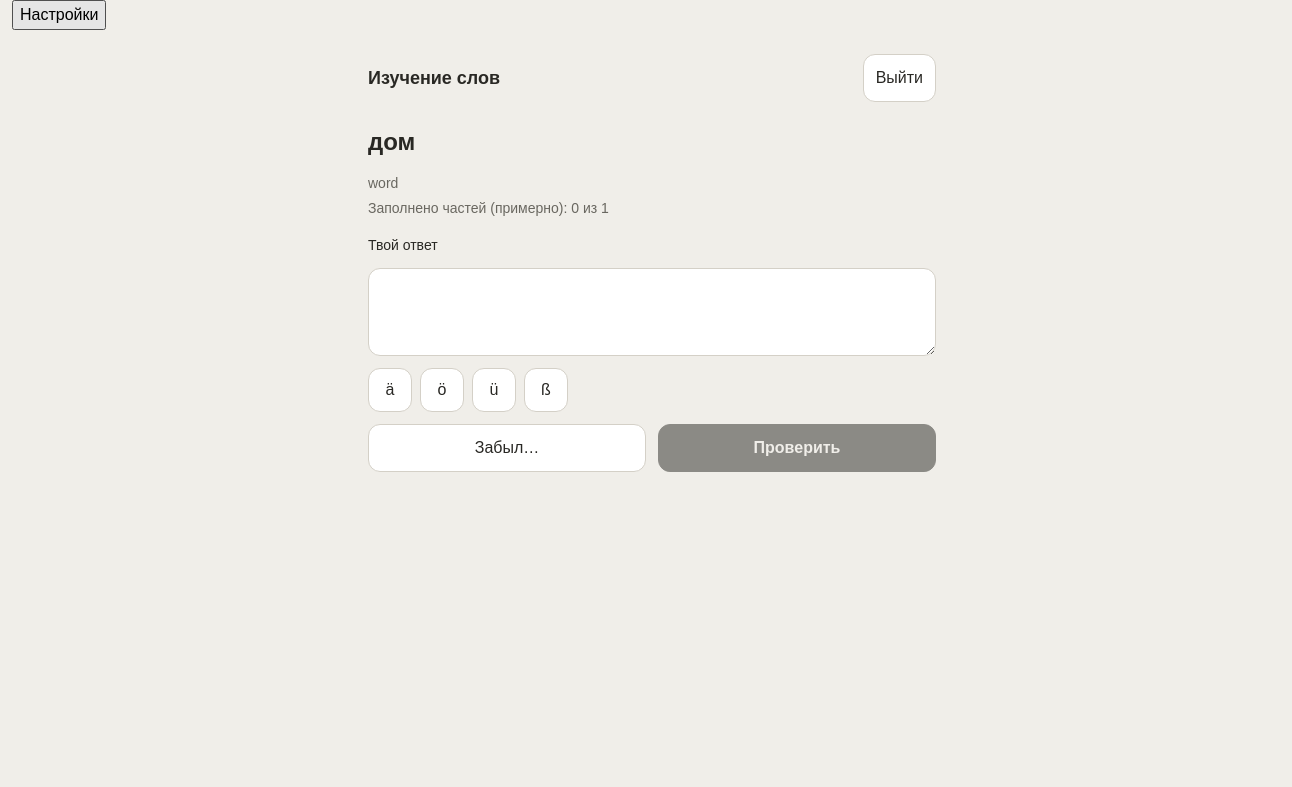
Test case: LearningHost with real document owners and synthetic HTTP › accepts newer confirmed Settings from the same source without requiring another open
Type "same source draft" into the text box at (652, 312), box [368,268,936,356]
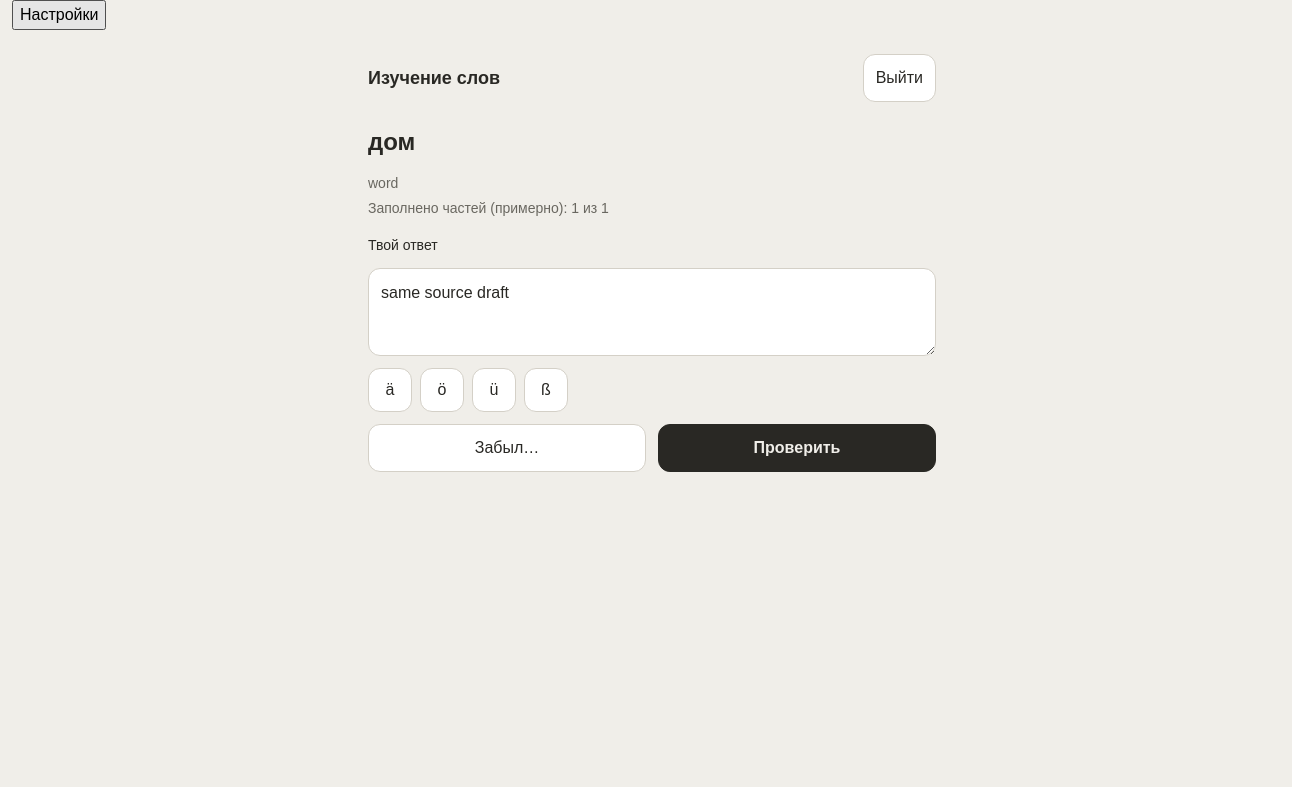
Click the button "Настройки" at (59, 15), box [12,0,106,30]
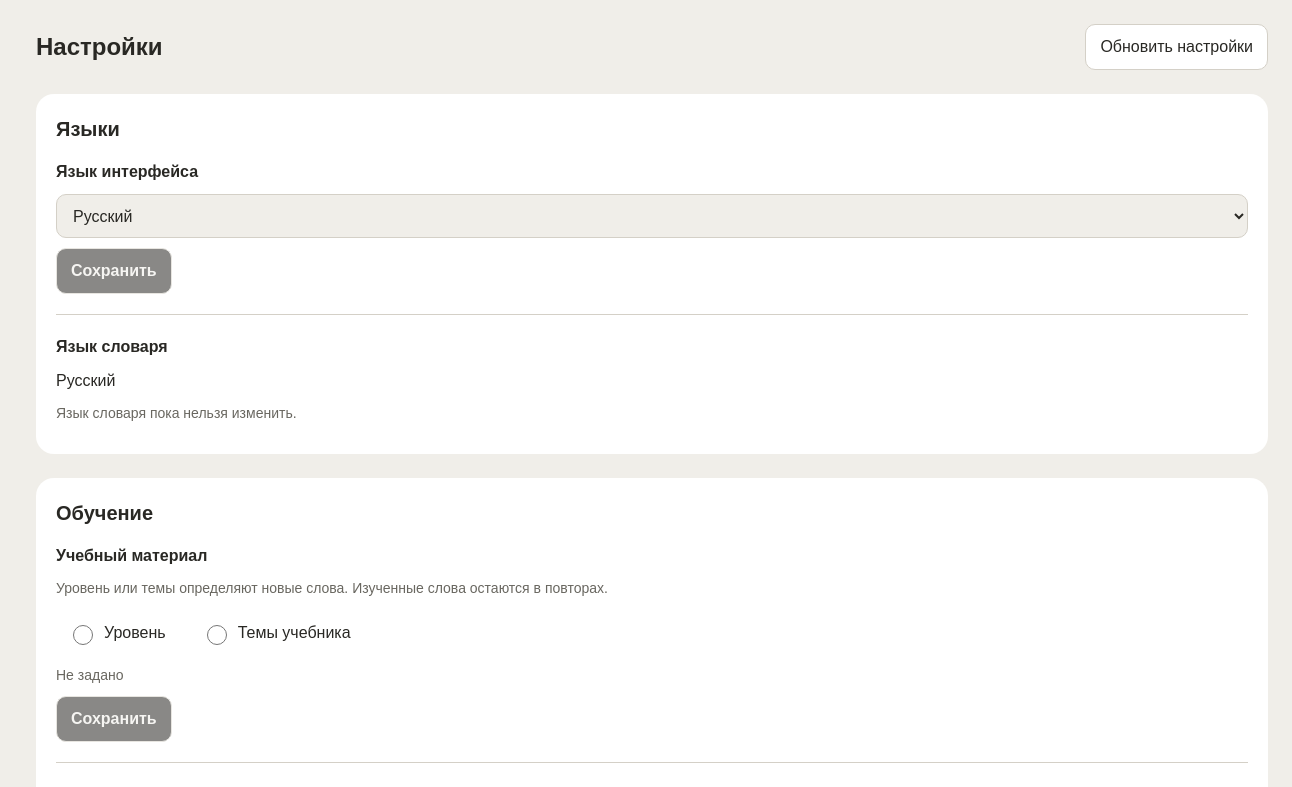
Check: the heading "Настройки" is shown, box [36,31,163,63]
Click the button "Обновить настройки" at (1177, 47), box [1085,24,1268,70]
(page scrolled)
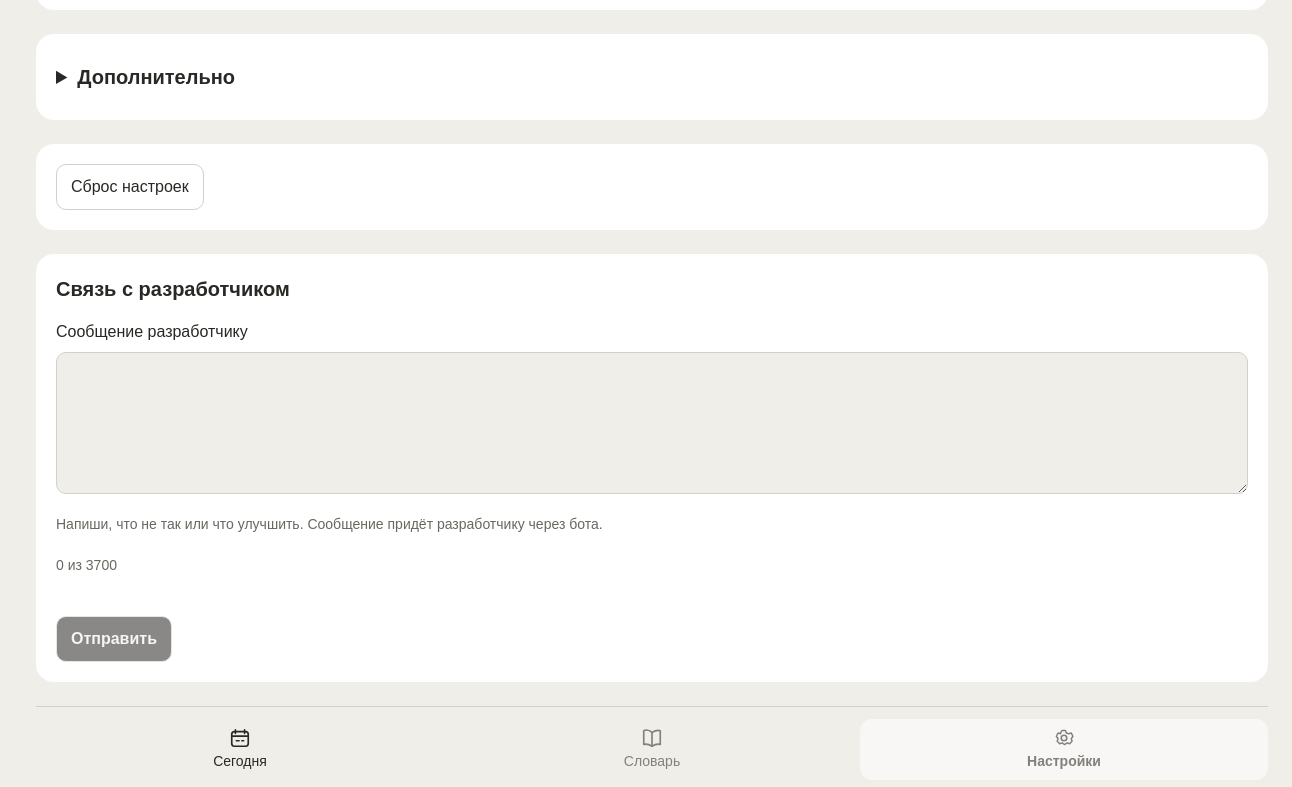
Click the button "Сегодня" at (240, 750), box [36,719,444,780]
(page scrolled)
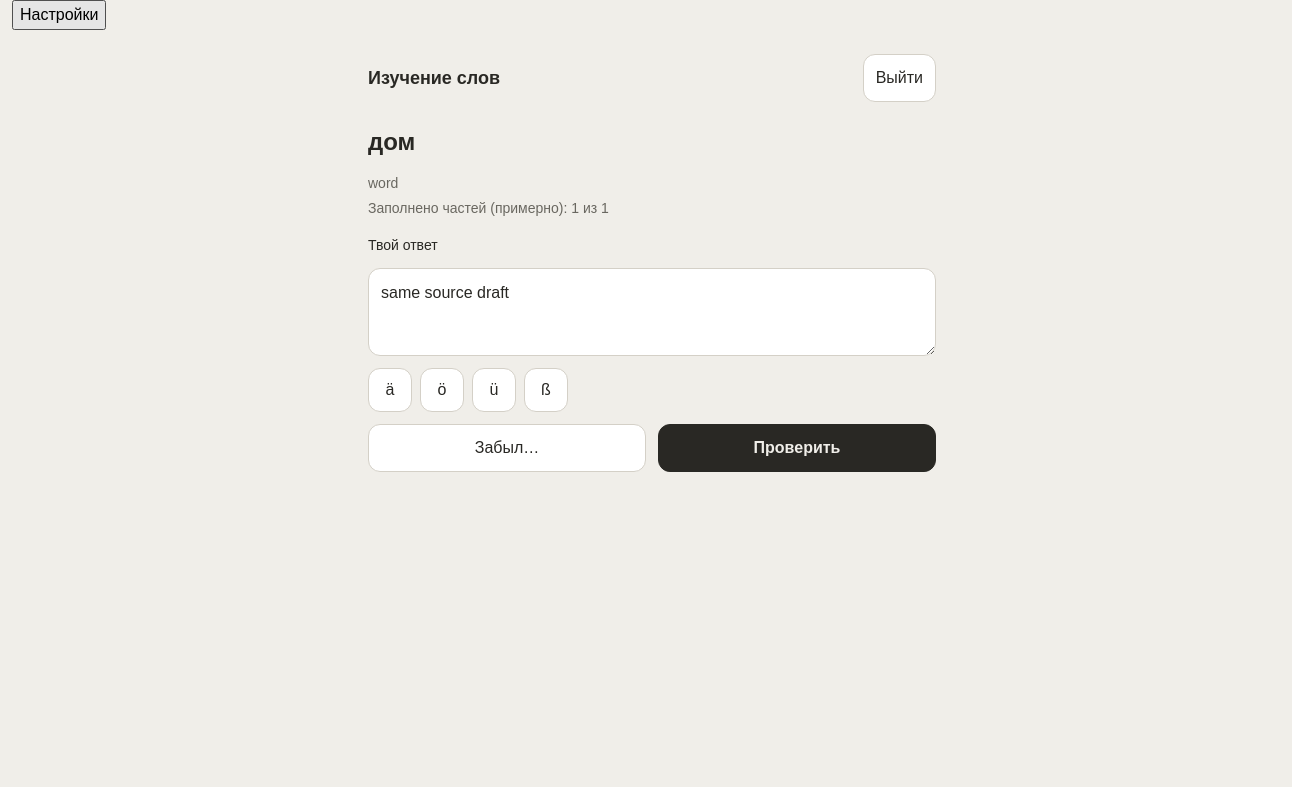
Check: the text box holds "same source draft", box [368,268,936,356]
